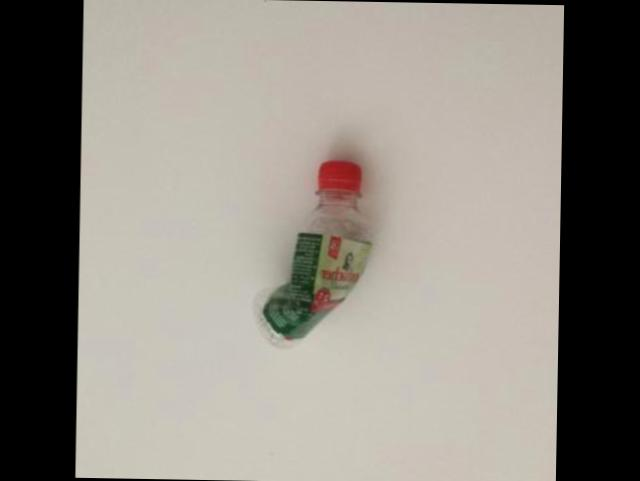plastic: (258, 161, 374, 348)
